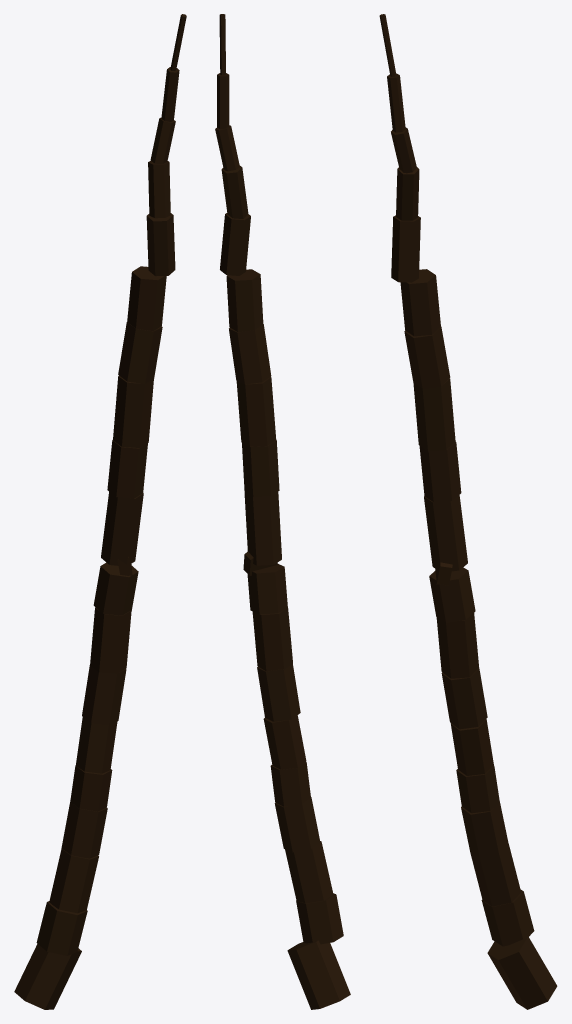
Rendered from 2022_tree_555_no_leaf.obj.
3 views of the same model, side by side, from view 1: azimuth 90°, elevation 25°; view 2: azimuth 210°, elevation 25°; view 3: azimuth 270°, elevation 25° (orthographic). The views are drawn at different scales.
Parts seen in each view (by area): view 1: TrunkAndBranches; view 2: TrunkAndBranches; view 3: TrunkAndBranches.
Boxes of the visible parts, bbox=[...] form: TrunkAndBranches: bbox=[14, 14, 186, 1009]; TrunkAndBranches: bbox=[215, 14, 350, 1009]; TrunkAndBranches: bbox=[379, 14, 557, 1009].
Bounding box in the file's own units: 0.2637 × 3.52 × 0.5632.
